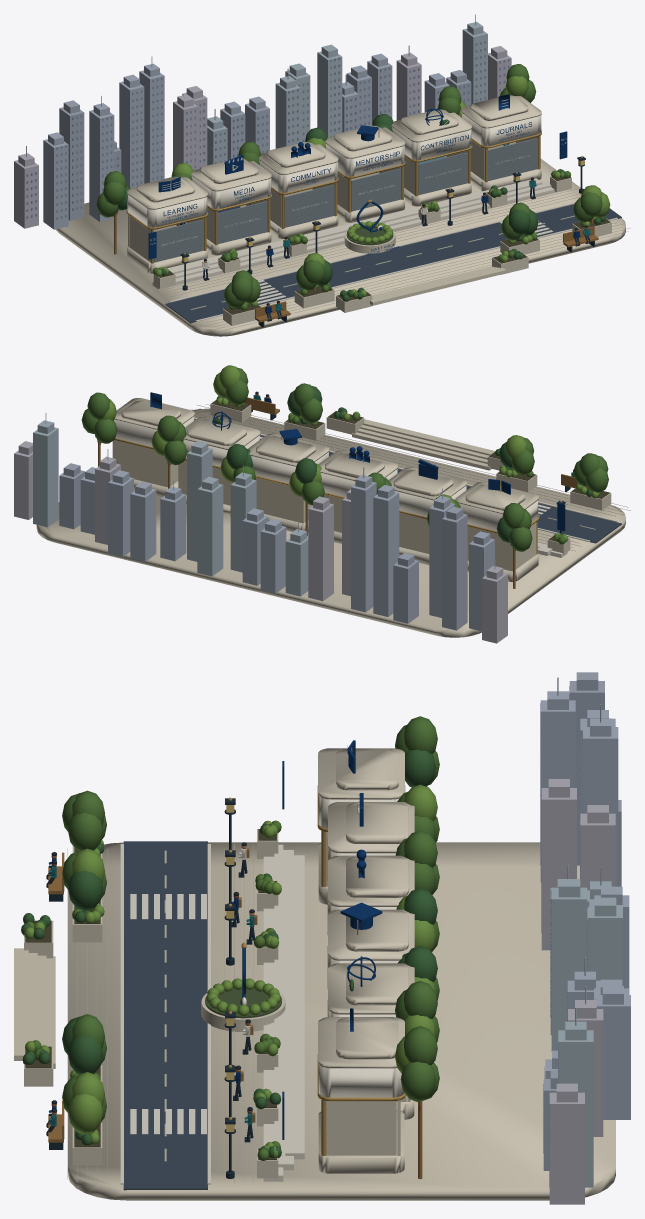
The model's file is medclub-campus.glb.
3 renders of one model, top to bottom at view 1: azimuth 30°, elevation 25°; view 2: azimuth 150°, elevation 25°; view 3: azimuth 270°, elevation 25°, orthographic. The views are drawn at different scales.
Visible parts, largest first — view 1: Skyline, Ground, Landscape, Dormant_shutters, Building_LEARNING, Building_JOURNALS, Building_MENTORSHIP, Building_COMMUNITY, Building_CONTRIBUTION, Building_MEDIA, Landmark, Campus_banners; view 2: Skyline, Ground, Landscape, Building_MENTORSHIP, Building_JOURNALS, Building_LEARNING, Building_MEDIA, Building_CONTRIBUTION, Building_COMMUNITY; view 3: Ground, Skyline, Landscape, Building_JOURNALS, Building_LEARNING, Building_MENTORSHIP, Building_CONTRIBUTION, Building_COMMUNITY, Building_MEDIA, Landmark.
Part boxes in pixels (x1,y1,x2,y2): Skyline: (14,14,511,229); Ground: (55,158,630,336); Landscape: (96,64,611,327); Dormant_shutters: (154,138,537,262); Building_LEARNING: (126,176,208,273); Building_JOURNALS: (460,94,541,191); Building_MENTORSHIP: (325,125,405,222); Building_COMMUNITY: (258,142,338,238); Building_CONTRIBUTION: (391,109,472,206); Building_MEDIA: (191,154,271,255); Landmark: (344,199,399,255); Campus_banners: (148,131,567,259); Skyline: (14,413,507,643); Ground: (36,404,630,637); Landscape: (81,365,611,588); Building_MENTORSHIP: (248,429,329,532); Building_JOURNALS: (112,392,194,497); Building_LEARNING: (455,479,539,581); Building_MEDIA: (388,459,466,564); Building_CONTRIBUTION: (178,411,260,516); Building_COMMUNITY: (318,446,398,543); Ground: (14,841,615,1200); Skyline: (540,672,630,1204); Landscape: (21,716,439,1179); Building_JOURNALS: (317,1008,405,1173); Building_LEARNING: (317,740,405,904); Building_MENTORSHIP: (327,902,414,988); Building_CONTRIBUTION: (327,956,414,1119); Building_COMMUNITY: (327,849,414,935); Building_MEDIA: (327,793,414,881); Landmark: (201,942,285,1031).
Bounding box in the file's own units: 46.5 × 13.18 × 31.52.
